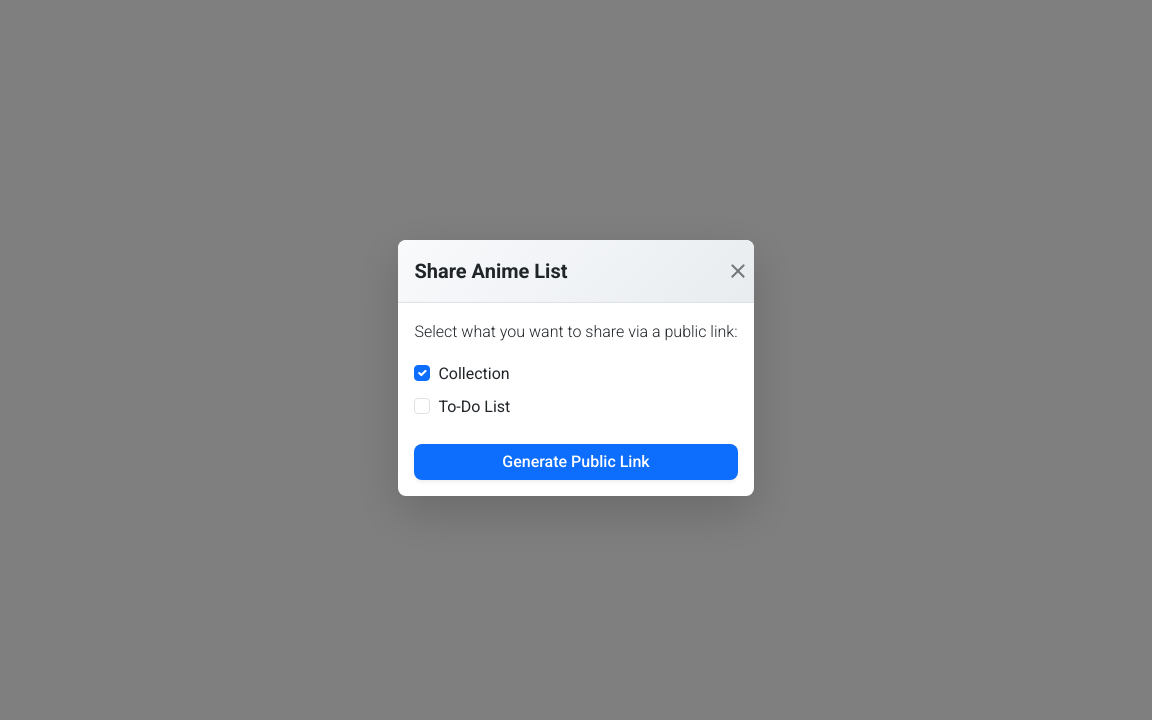
ShareLinkModal › Generate button is disabled when both checkboxes are unchecked
This screenshot has width=1152, height=720.
Expected: the button "Generate Public Link" is shown, [414, 444, 738, 480]
Uncheck "Collection"
Click the checkbox labelled "Collection".
click(422, 373)  # box [414, 365, 430, 381]
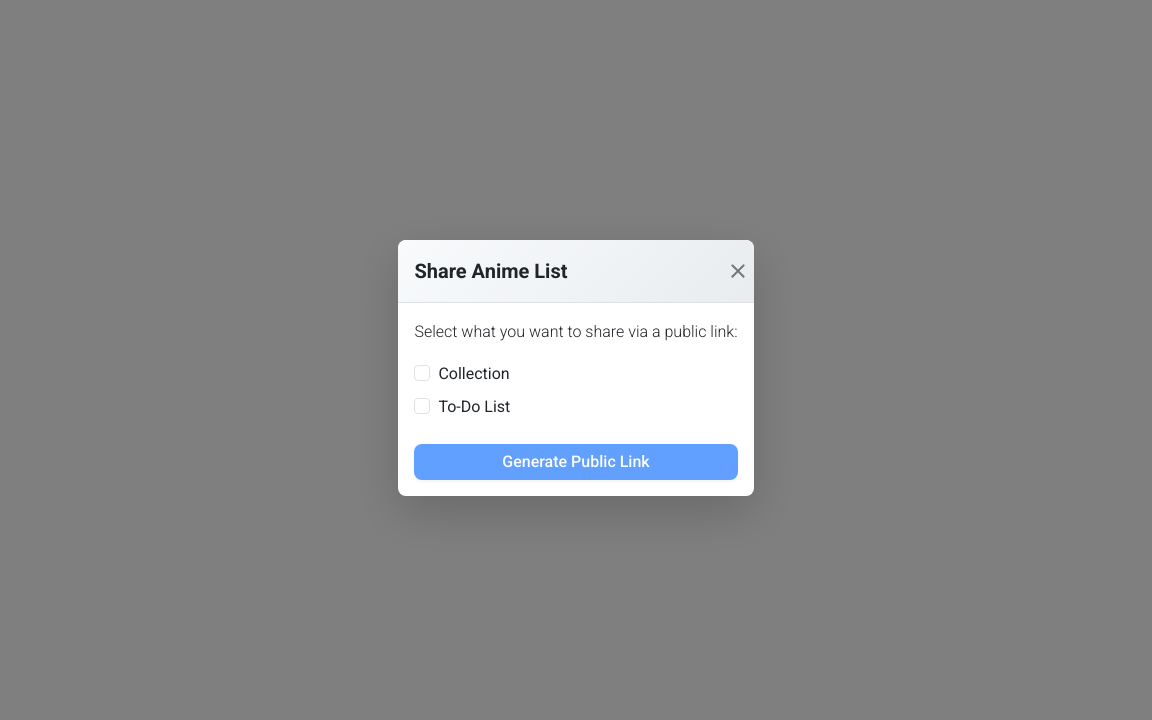
Result: the button "Generate Public Link" is disabled at [414, 444, 738, 480]
